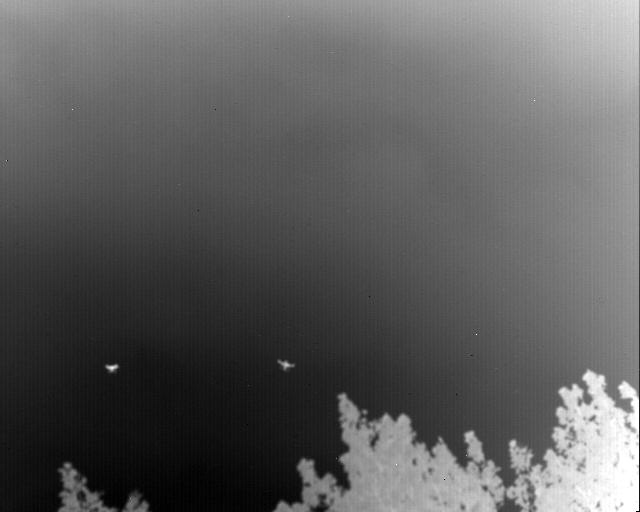plane: (276, 357, 295, 370), (104, 362, 119, 372)
